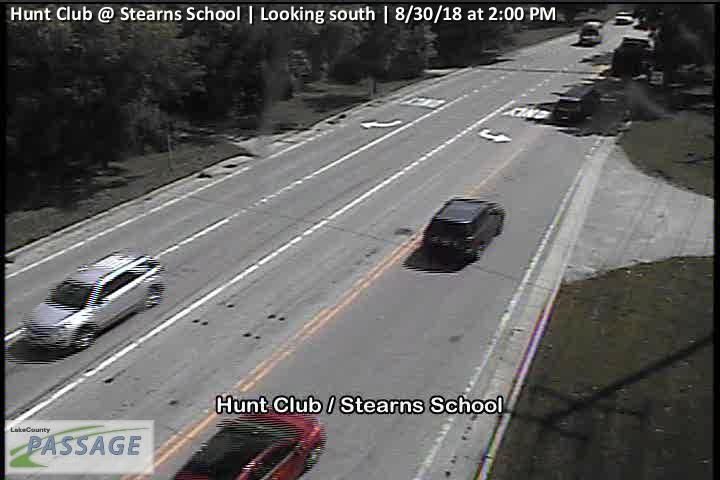SUV: (20, 251, 166, 352), (422, 196, 506, 264)
Sedan: (162, 402, 326, 480)
Truck: (553, 85, 599, 124)
